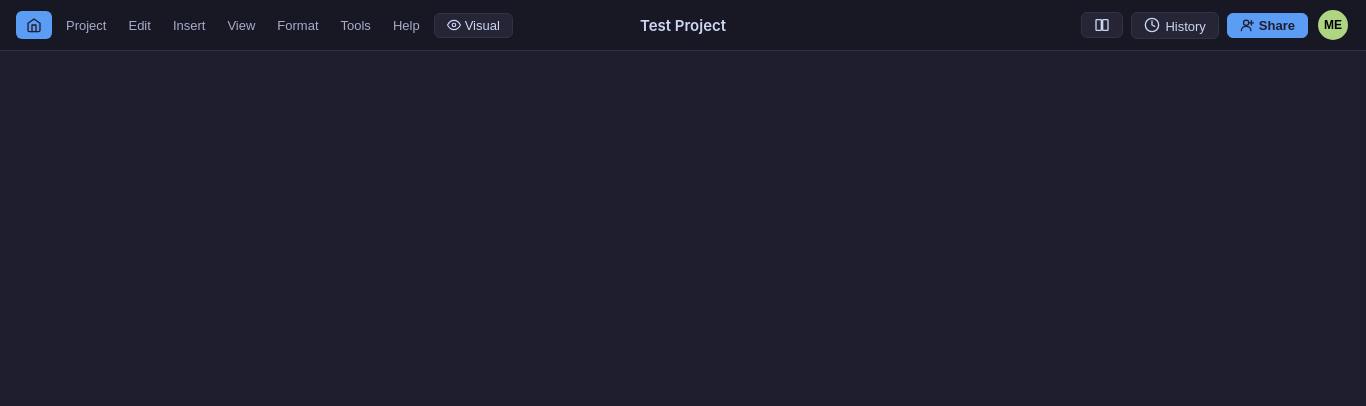
Test: Toolbar › opens Insert menu and shows items
Click the button "Insert" at [189, 25], box [163,14,215,36]
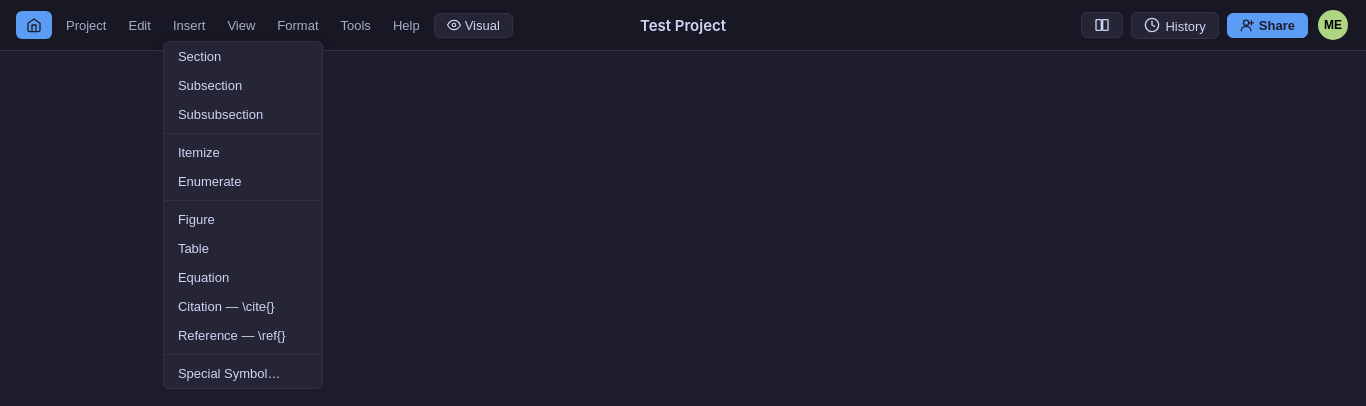
Expected: the button "Section" is shown, [164,42,322,70]
Expected: the button "Figure" is shown, [164,204,322,234]
Expected: the button "Table" is shown, [164,234,322,262]
